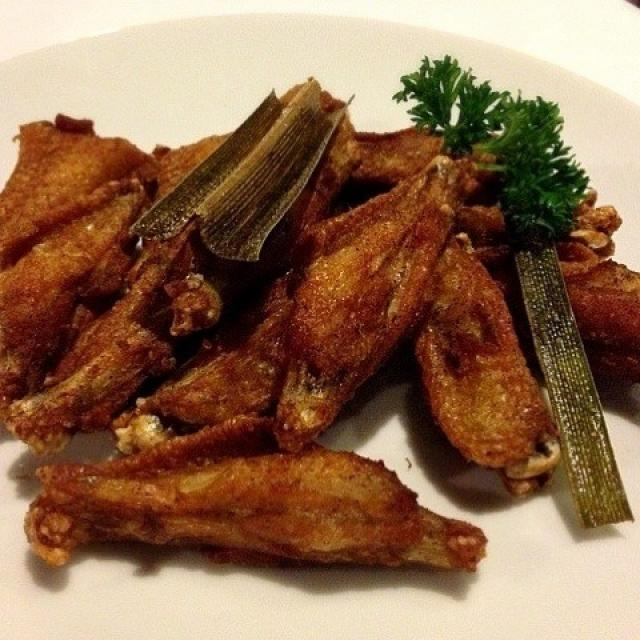Deep fried chicken wing: (17, 97, 611, 539)
